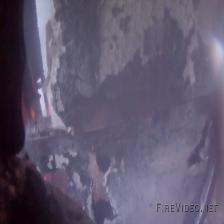fire: (26, 106, 42, 125)
